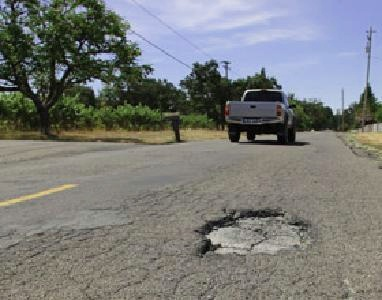pothole: (194, 205, 315, 258)
